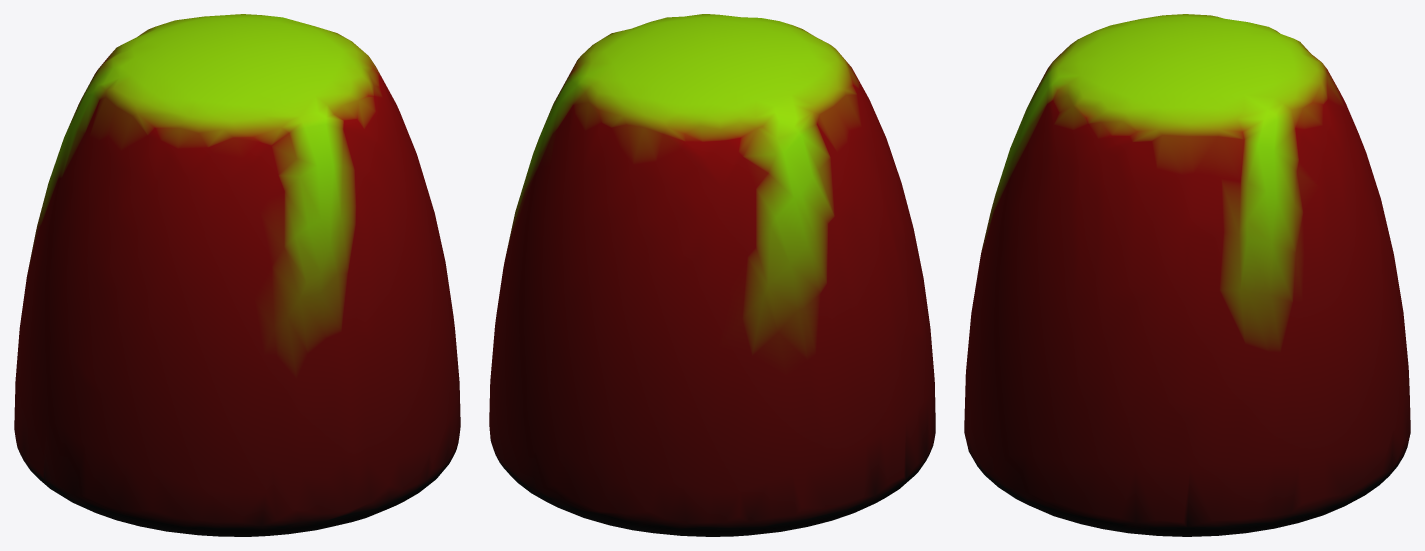
Rendered from bg-volcano-a.glb.
3 renders of one model, left to right at view 1: azimuth 30°, elevation 25°; view 2: azimuth 150°, elevation 25°; view 3: azimuth 270°, elevation 25°, orthographic.
Visible parts, largest first — view 1: mtn; view 2: mtn; view 3: mtn.
Part boxes in pixels (bbox=[...]): mtn: bbox=[14, 14, 460, 536]; mtn: bbox=[489, 14, 935, 536]; mtn: bbox=[964, 14, 1410, 536].
Size of the model in its own units: 8.39 by 8.85 by 8.39.
